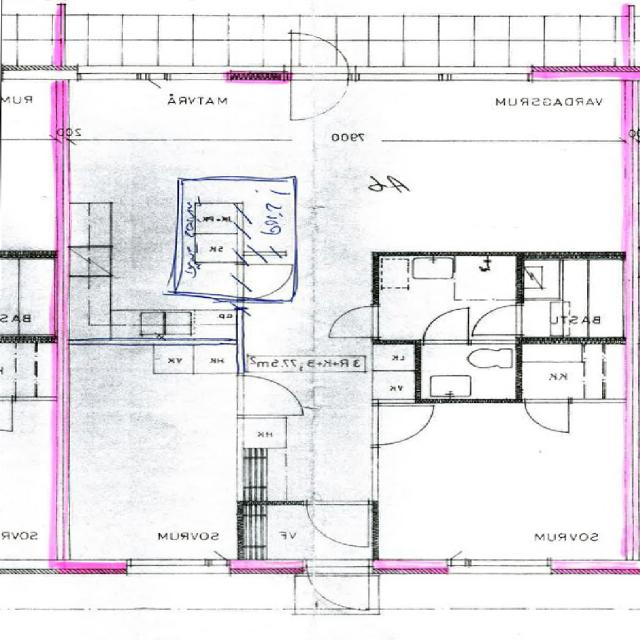door: (308, 560, 369, 617), (292, 66, 349, 120), (292, 26, 349, 80), (308, 501, 369, 547), (373, 406, 434, 446), (238, 376, 298, 415), (329, 306, 379, 338), (526, 399, 570, 435), (424, 309, 468, 344), (474, 305, 524, 335)
